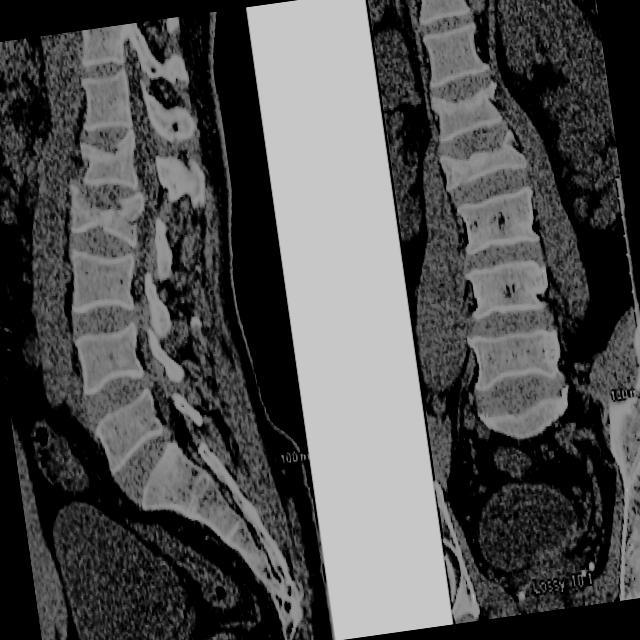Compression-Crush Fracutre: (56, 182, 159, 245)
